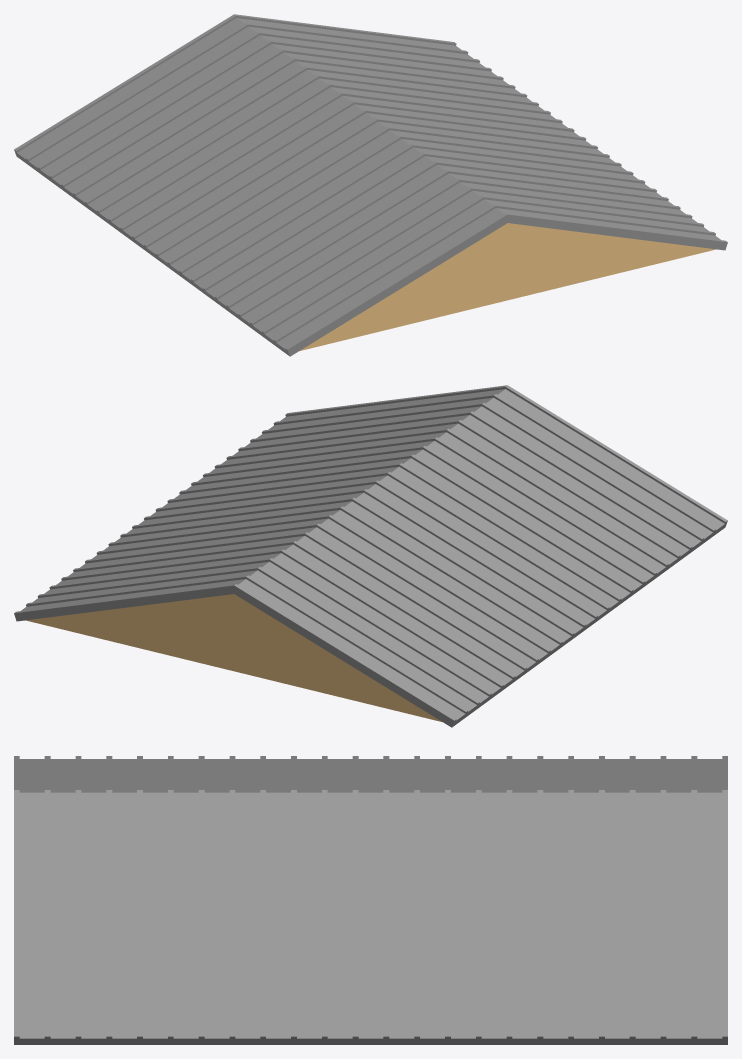
The model's file is Cage_Roof 1.fbx.
3 renders of one model, top to bottom at view 1: azimuth 30°, elevation 25°; view 2: azimuth 150°, elevation 25°; view 3: azimuth 270°, elevation 25°, orthographic. The views are drawn at different scales.
Parts seen in each view (by area): view 1: Roof_2, Roof_3, Roof_1; view 2: Roof_2, Roof_3, Roof_1; view 3: Roof_2, Roof_3.
Boxes of the visible parts, left/top/right/bottom form: Roof_2: left=15, top=18, right=727, bottom=356; Roof_3: left=14, top=14, right=727, bottom=351; Roof_1: left=300, top=223, right=715, bottom=350; Roof_2: left=14, top=389, right=726, bottom=727; Roof_3: left=14, top=385, right=727, bottom=722; Roof_1: left=26, top=594, right=441, bottom=721; Roof_2: left=14, top=759, right=727, bottom=1044; Roof_3: left=14, top=756, right=727, bottom=1038.
Bounding box in the file's own units: 2287 × 442 × 2460.
